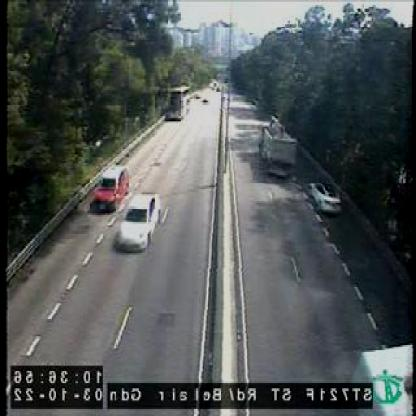Bus: (170, 85, 192, 120)
Car: (119, 190, 162, 250), (92, 166, 129, 212), (313, 180, 343, 213)
Truck: (262, 120, 296, 173)
